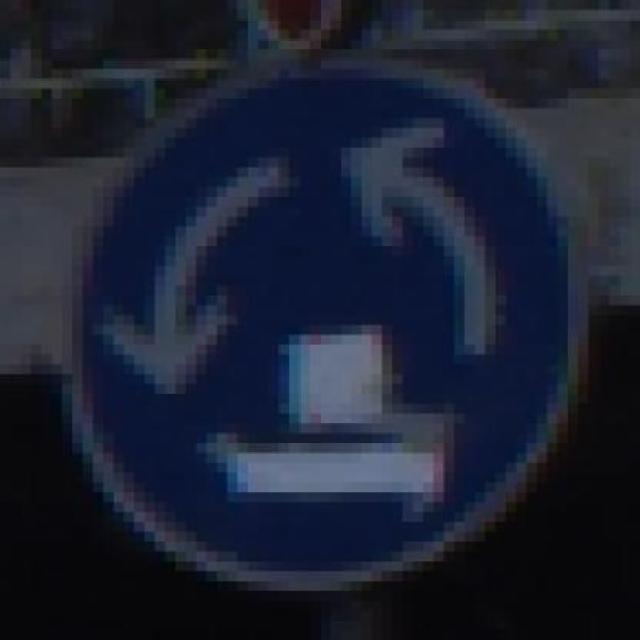Round-About: (51, 49, 609, 600)
